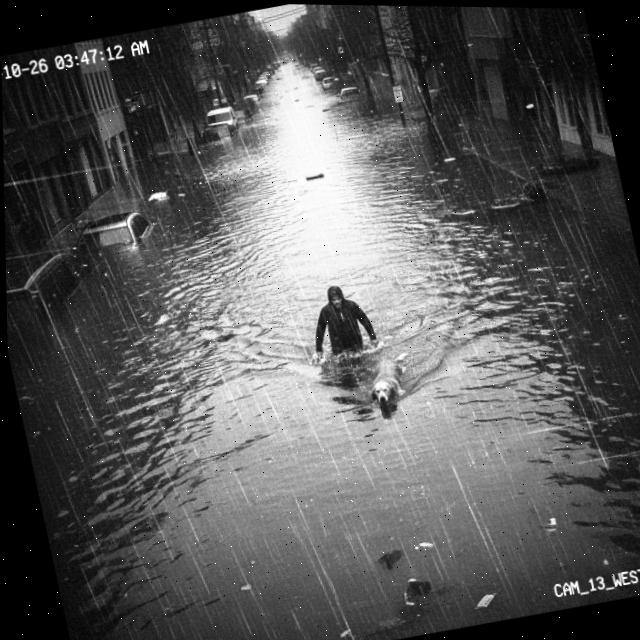civilian: (297, 270, 391, 368)
dog: (354, 338, 430, 418)
